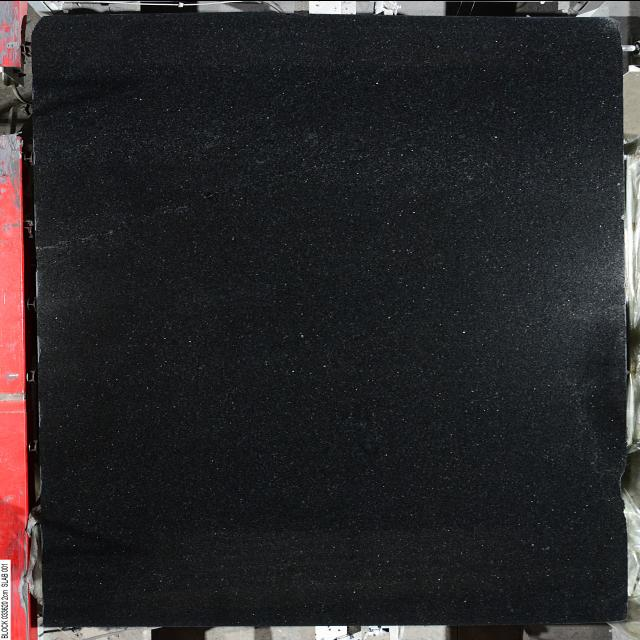chapa: (34, 11, 626, 625)
